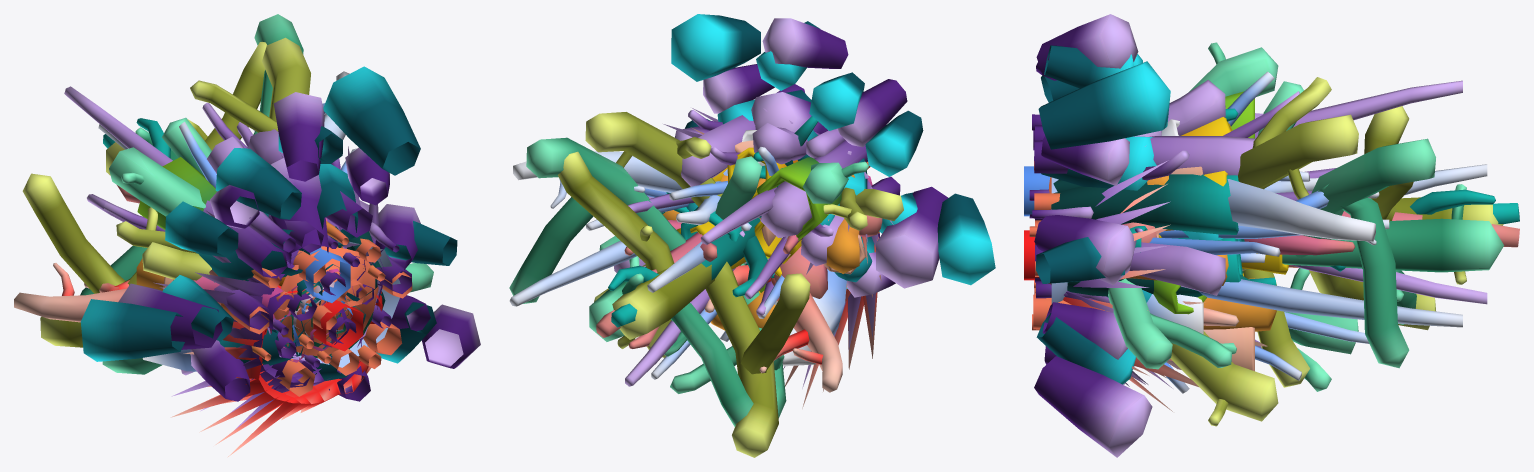
3 renders of one model, left to right at view 1: azimuth 30°, elevation 25°; view 2: azimuth 150°, elevation 25°; view 3: azimuth 270°, elevation 25°, orthographic. The views are drawn at different scales.
Parts seen in each view (by area): view 1: coral23, coral22, coral5, coral21, coral6, coral20, coral14, coral2, coral13, coral7, coral11, coral8 (+6 smaller); view 2: coral5, coral6, coral23, coral22, coral21, coral8, coral7, coral4, coral2, coral1, coral20, coral15 (+9 smaller); view 3: coral6, coral22, coral5, coral23, coral8, coral21, coral12, coral1, coral7, coral20, coral4, coral3 (+7 smaller).
Boxes of the visible parts, x1,y1,x2,y2 form: coral23: (80,66,457,380); coral22: (118,92,480,401); coral5: (22,37,310,347); coral21: (203,129,411,367); coral6: (80,14,433,374); coral20: (136,221,412,396); coral14: (170,270,382,457); coral2: (14,263,363,351); coral13: (153,146,382,429); coral7: (64,86,381,375); coral11: (274,246,378,355); coral8: (98,121,400,367); coral5: (558,112,903,457); coral6: (509,137,868,426); coral23: (671,14,995,288); coral22: (614,18,948,297); coral21: (648,84,900,266); coral8: (509,147,784,379); coral7: (625,109,833,386); coral4: (608,116,817,327); coral2: (705,265,842,392); coral1: (513,151,727,225); coral20: (663,162,879,330); coral15: (742,130,846,366); coral6: (1108,42,1504,391); coral22: (1034,14,1161,457); coral5: (1170,77,1503,426); coral23: (1036,45,1170,384); coral8: (1051,71,1487,393); coral21: (1029,79,1263,303); coral12: (1051,174,1244,297); coral1: (1024,166,1379,245); coral7: (1135,80,1487,347); coral20: (1029,161,1276,331); coral4: (1225,108,1519,285); coral3: (1244,211,1519,255).
Size of the model in its own units: 731 by 663 by 708.
1 material, 1 textured.
